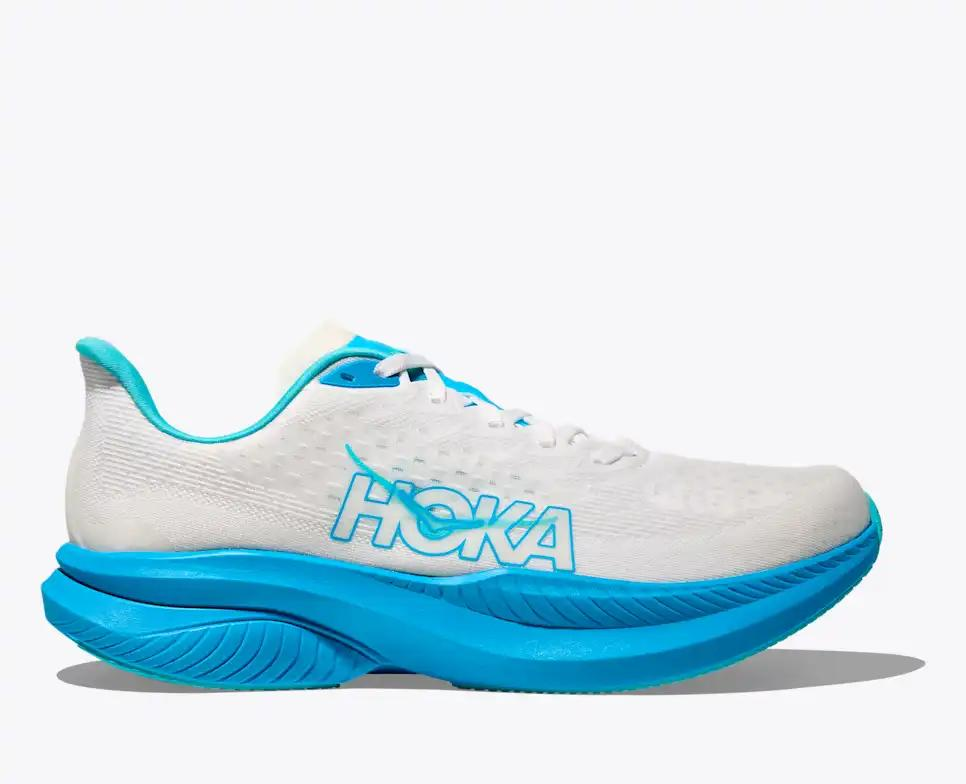hoka logo: (327, 441, 574, 572)
